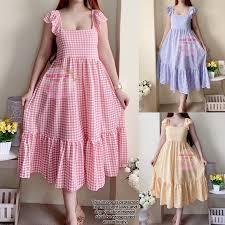dress: (13, 6, 131, 188), (158, 4, 214, 95), (153, 116, 209, 206)
